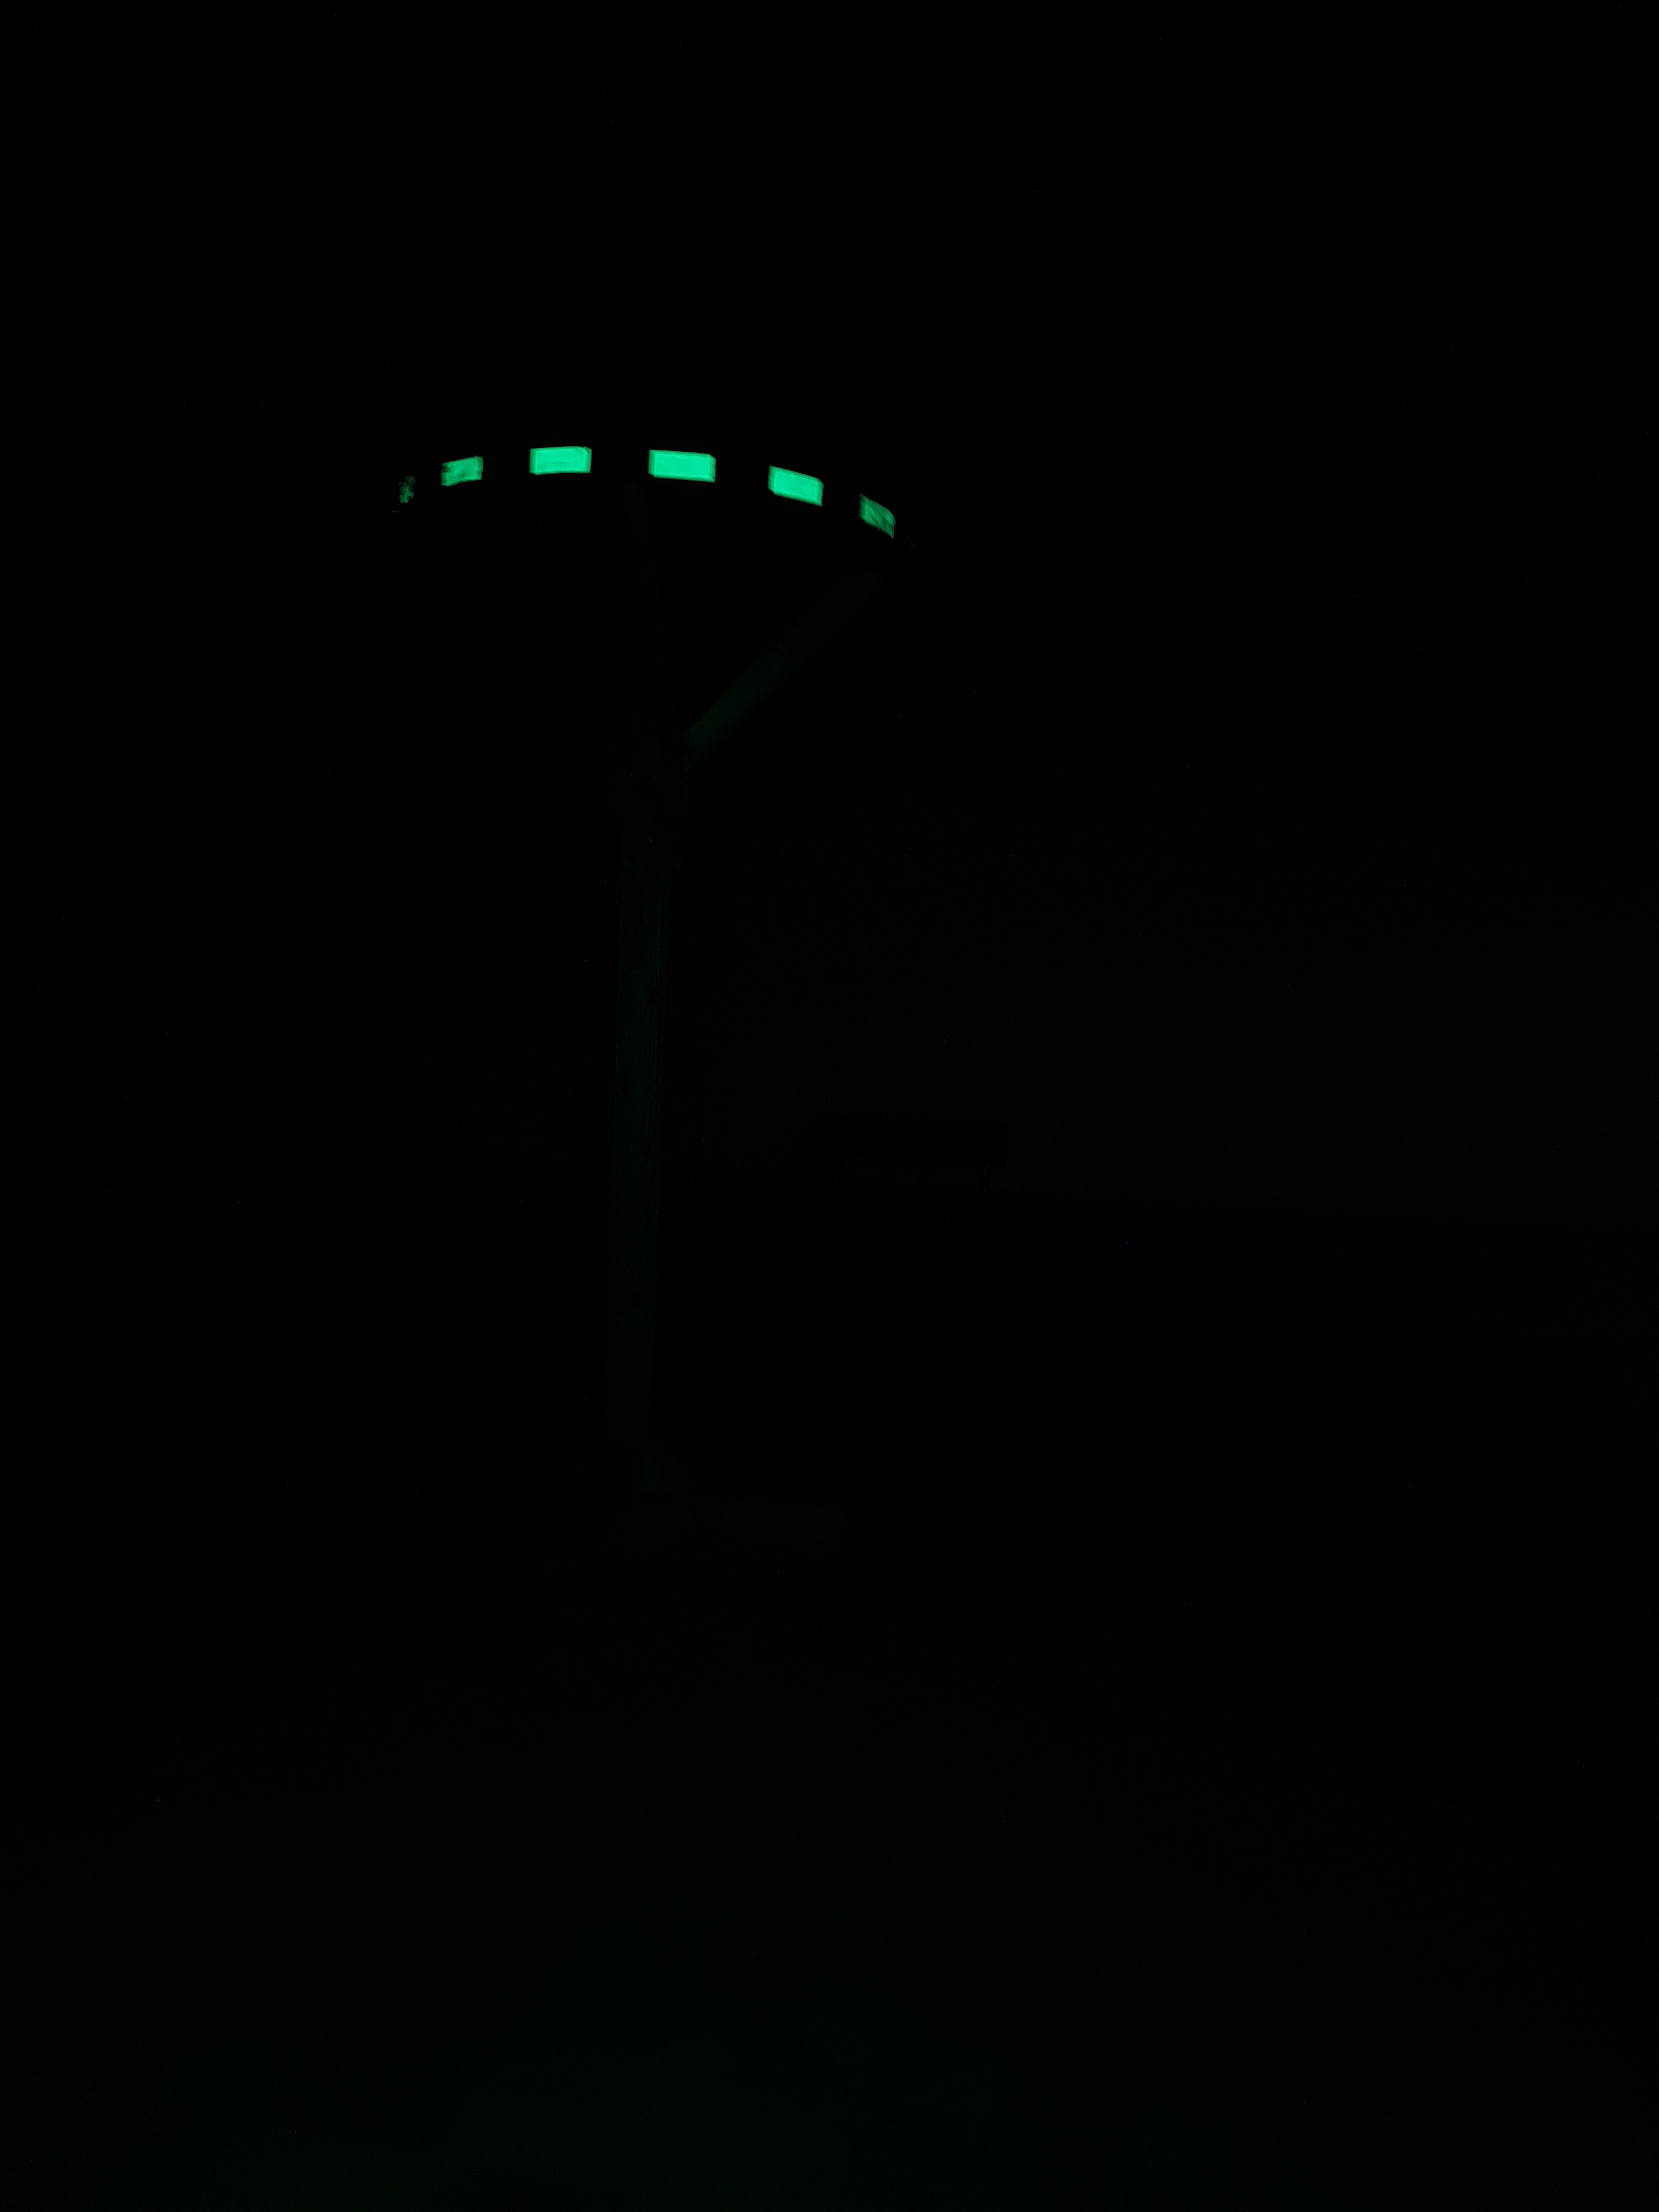hoop: (397, 437, 901, 552)
